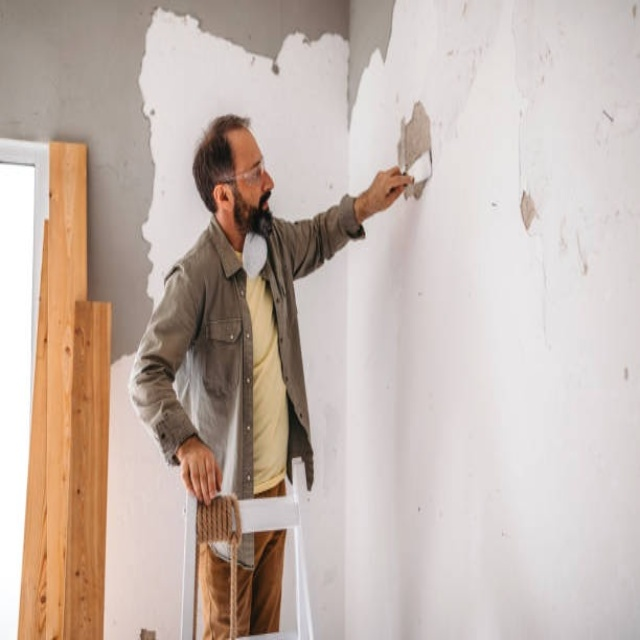Gafas: (219, 159, 266, 188)
Sin_guantes: (172, 431, 227, 505), (360, 157, 416, 213)
Sin_mascara: (250, 184, 272, 216)
